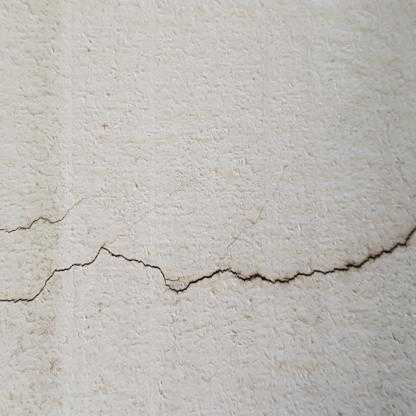crack: (2, 228, 415, 306), (0, 197, 82, 238)
